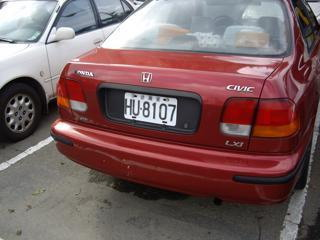plate: (121, 90, 179, 127)
